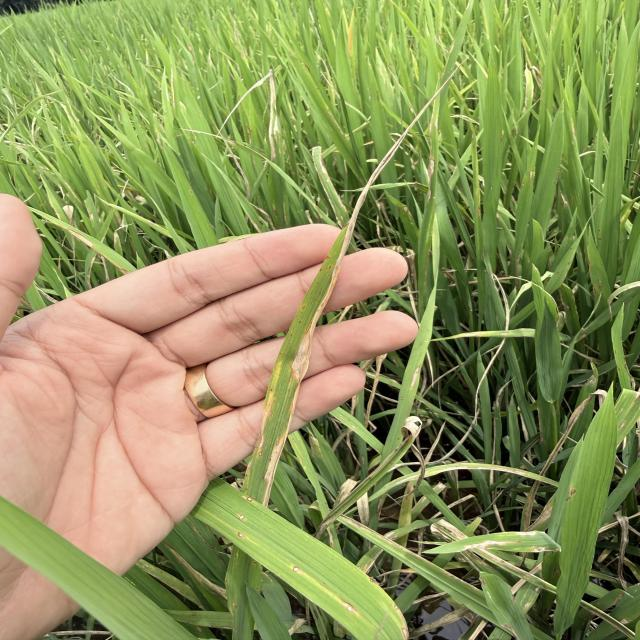Chay bia la: (289, 67, 459, 382), (263, 434, 288, 501)
